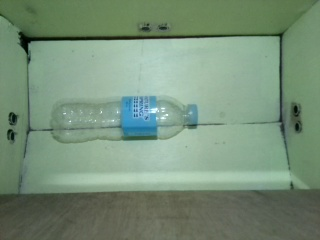bottle: (51, 96, 199, 139)
